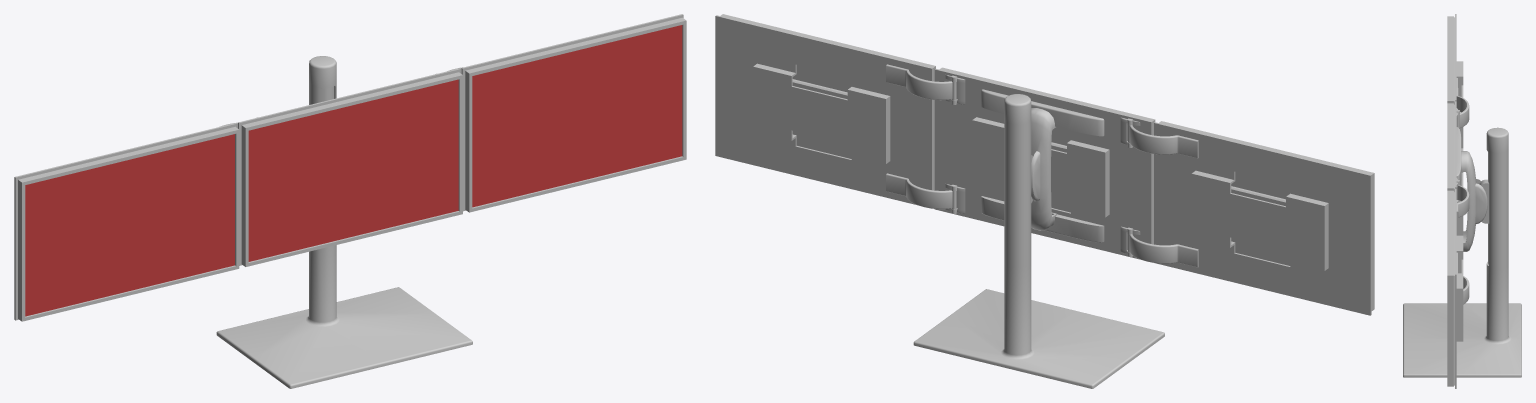
Rendered from Airport_Monitor_2_Short.fbx.
3 views of the same model, side by side, from view 1: azimuth 30°, elevation 25°; view 2: azimuth 150°, elevation 25°; view 3: azimuth 270°, elevation 25° (orthographic). The views are drawn at different scales.
Parts seen in each view (by area): view 1: Airport_Monitor_2_2_1, Airport_Monitor_2_Stand_Short; view 2: Airport_Monitor_2_2_1, Airport_Monitor_2_Stand_Short; view 3: Airport_Monitor_2_Stand_Short, Airport_Monitor_2_2_1, Airport_Monitor_2_1.
Part boxes in pixels (x1,y1,x2,y2): Airport_Monitor_2_2_1: (14,14,686,321); Airport_Monitor_2_Stand_Short: (216,56,472,388); Airport_Monitor_2_2_1: (715,14,1374,315); Airport_Monitor_2_Stand_Short: (913,94,1164,388); Airport_Monitor_2_Stand_Short: (1403,127,1521,377); Airport_Monitor_2_2_1: (1447,14,1487,388); Airport_Monitor_2_1: (1479,179,1489,223).
Size of the model in its own units: 158 by 59.78 by 30.47.
